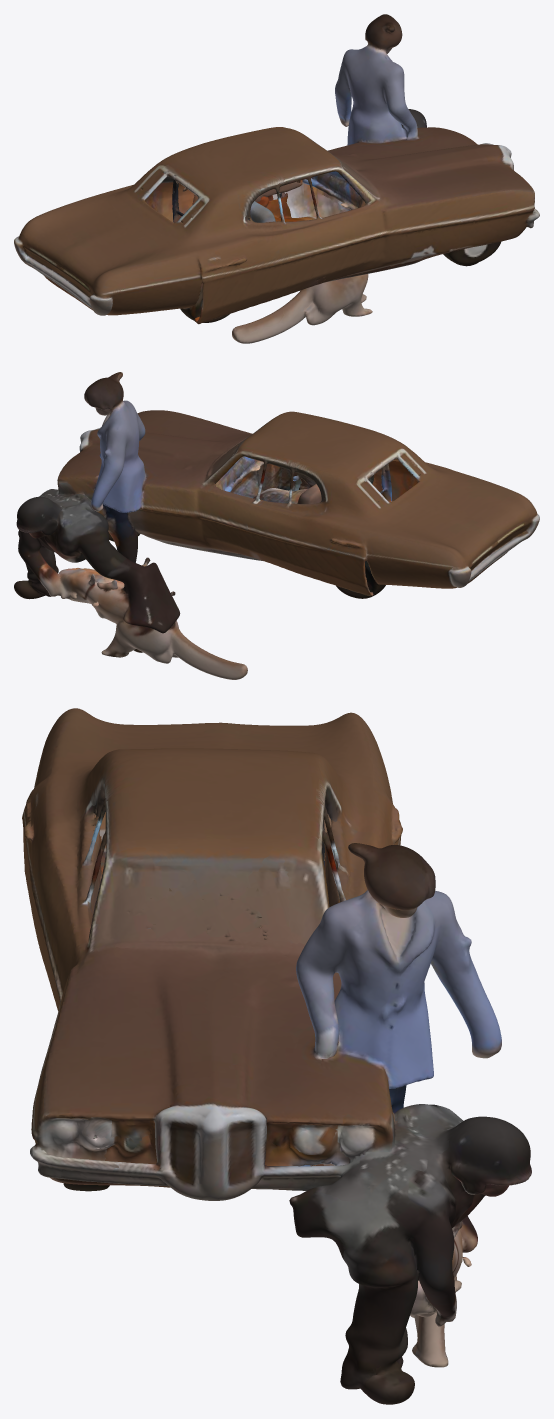
File: MemeModel 1.fbx
3 views of the same model, one above another, from view 1: azimuth 30°, elevation 25°; view 2: azimuth 150°, elevation 25°; view 3: azimuth 270°, elevation 25° (orthographic). The views are drawn at different scales.
Parts seen in each view (by area): view 1: tripo_node_da31737f-d9d1-46ee-88ee-710cedb74aa0; view 2: tripo_node_da31737f-d9d1-46ee-88ee-710cedb74aa0; view 3: tripo_node_da31737f-d9d1-46ee-88ee-710cedb74aa0.
Part boxes in pixels (bbox=[...]): tripo_node_da31737f-d9d1-46ee-88ee-710cedb74aa0: bbox=[14, 14, 539, 343]; tripo_node_da31737f-d9d1-46ee-88ee-710cedb74aa0: bbox=[14, 372, 539, 679]; tripo_node_da31737f-d9d1-46ee-88ee-710cedb74aa0: bbox=[22, 708, 531, 1404].
Size of the model in its own units: 100 by 57.9 by 49.76.
Materials: 1 (1 with a texture image).
